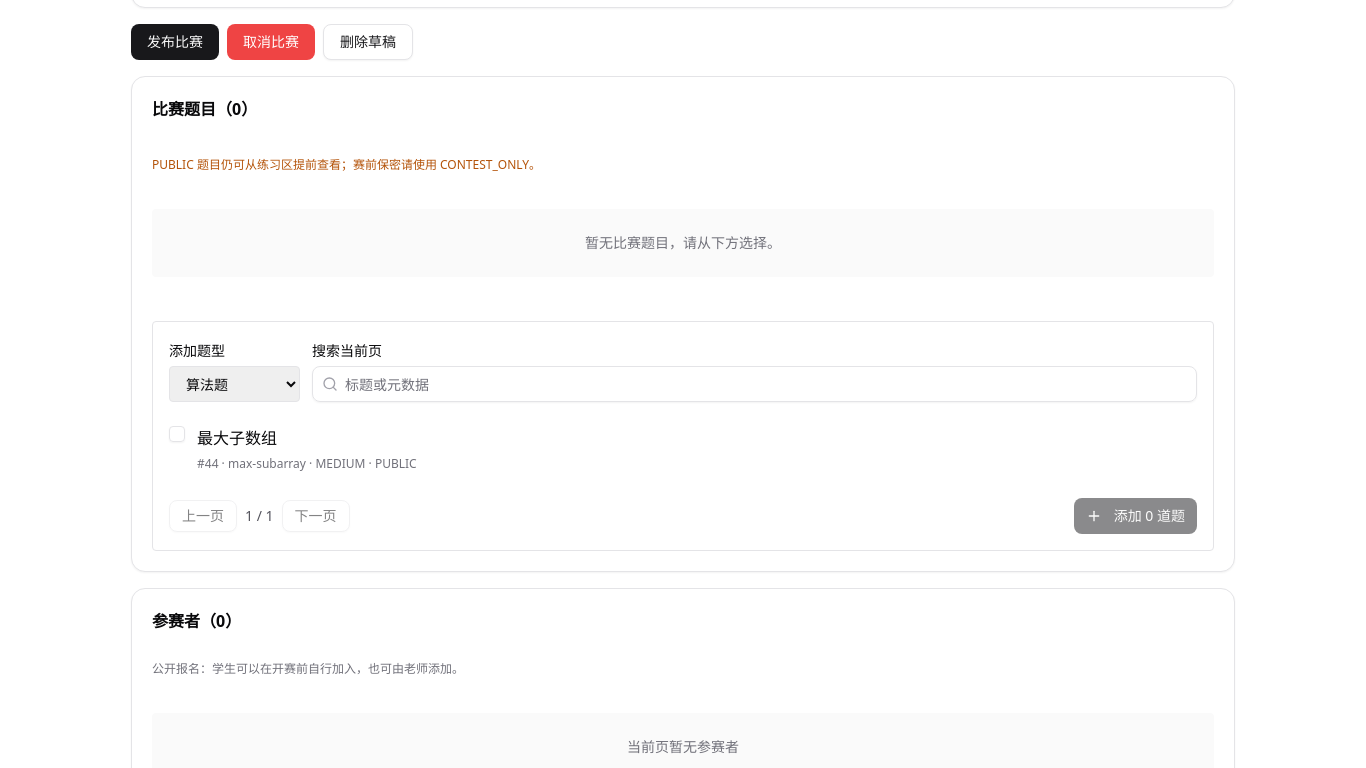
Test case: contest stage UI › shows DOCX completeness and disables exercises missing either document
(page scrolled)
Select "DOCX 文件题" in the dropdown labelled "添加题型" at (234,384), box [169,366,300,402]
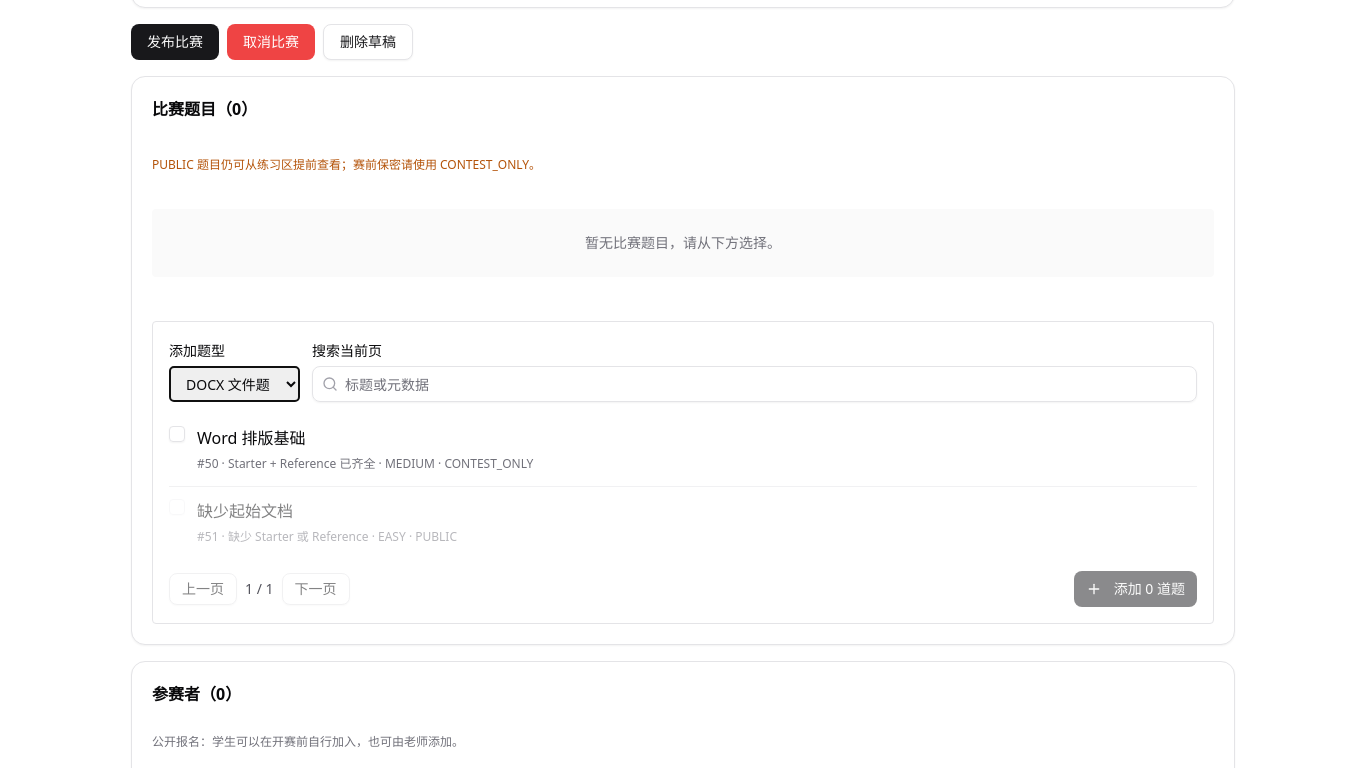
Expected: the text "Word 排版基础" is shown, [197,427,306,449]
Expected: the text "#50 · Starter + Reference 已齐全 · MEDIUM · CONTEST_ONLY" is shown, [197,455,533,472]
